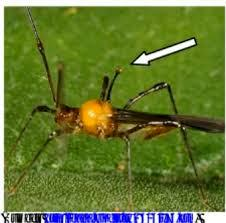Helopeltis-insect: (42, 84, 223, 151)
